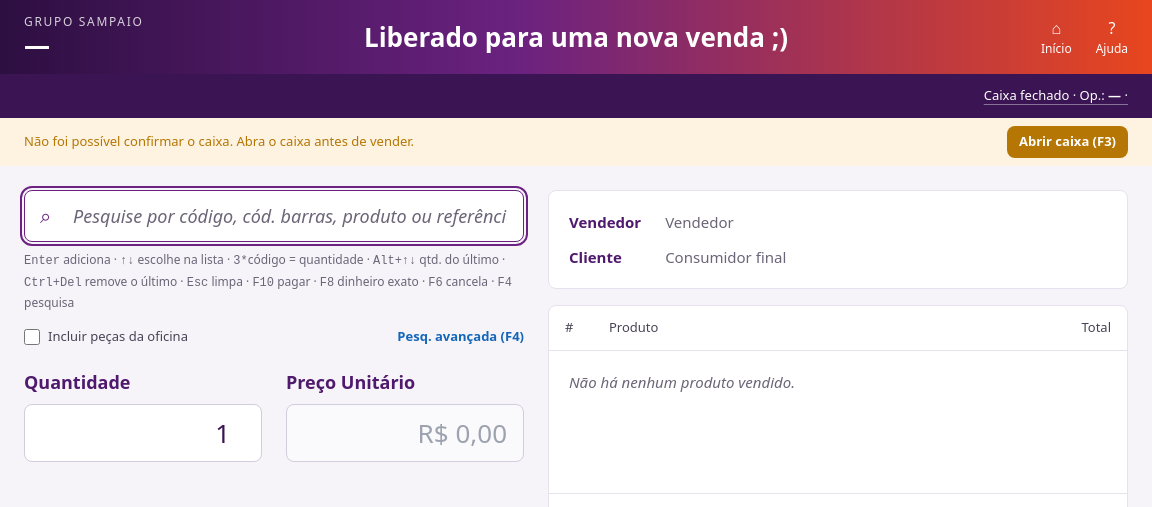
Test: o painel de concessão, antes de fechar a venda › mostra quanto, quantos por cento, e DE ONDE veio
Type "10000" into the field labelled "Preço Unitário" at (405, 432), box [286, 404, 524, 462]
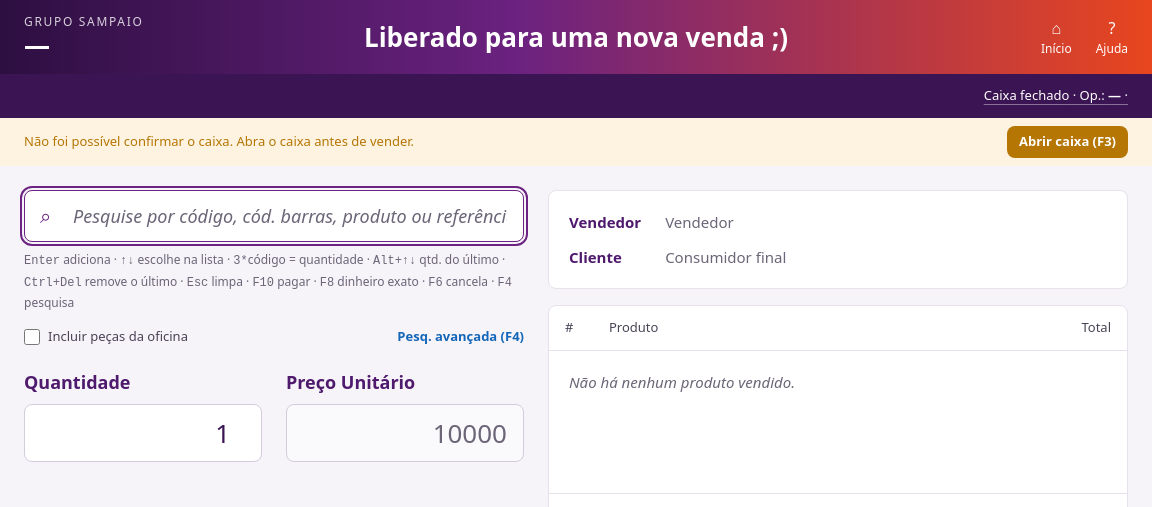
Type "7890000001111" into the field labelled "Pesquise por código, cód. barras, produto ou referência" at (274, 216), box [24, 190, 524, 242]
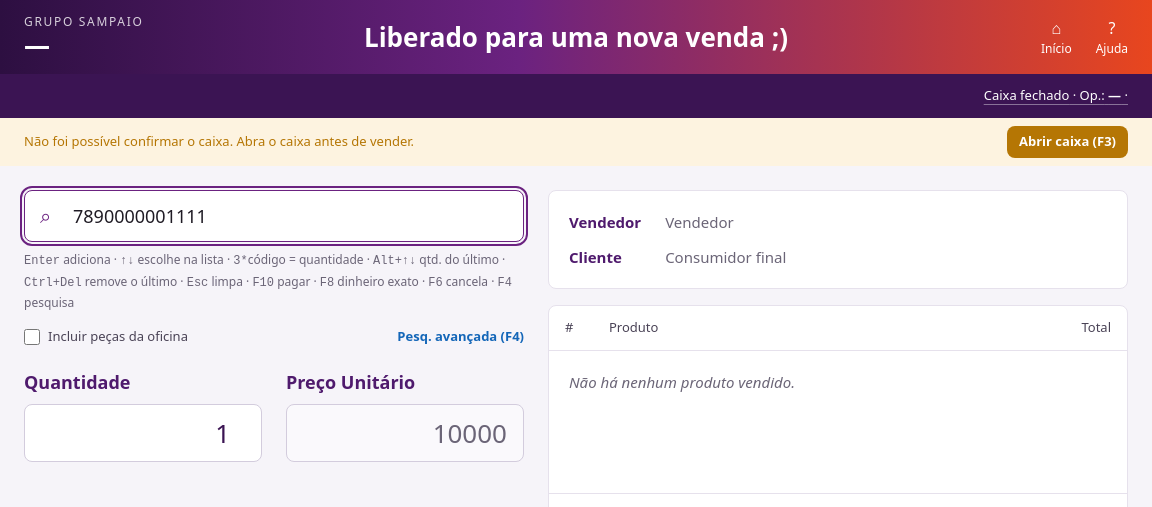
Press Enter in the field named "Pesquise por código", box [24, 190, 524, 242]
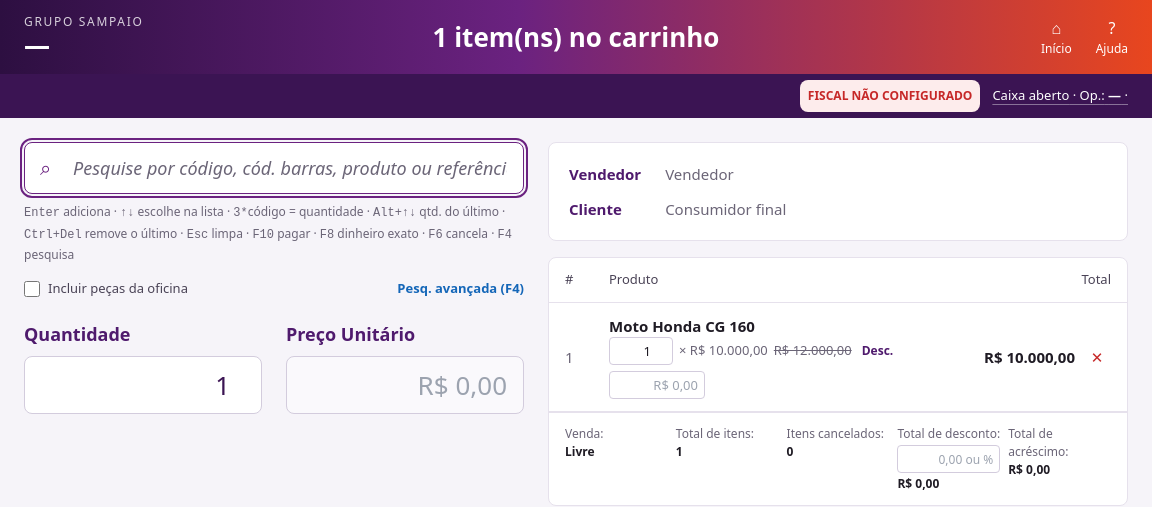
Check: the button named "Remover " is shown, box [1083, 341, 1111, 373]
